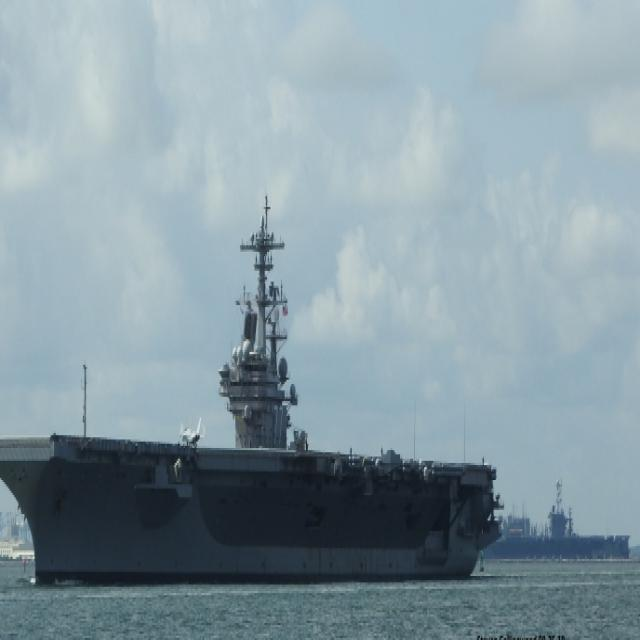Portanaves: (1, 174, 505, 594)
